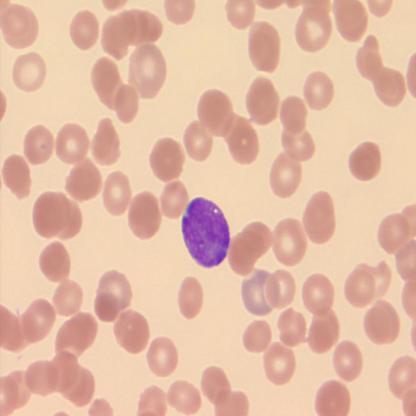Blast: (178, 193, 233, 270)
